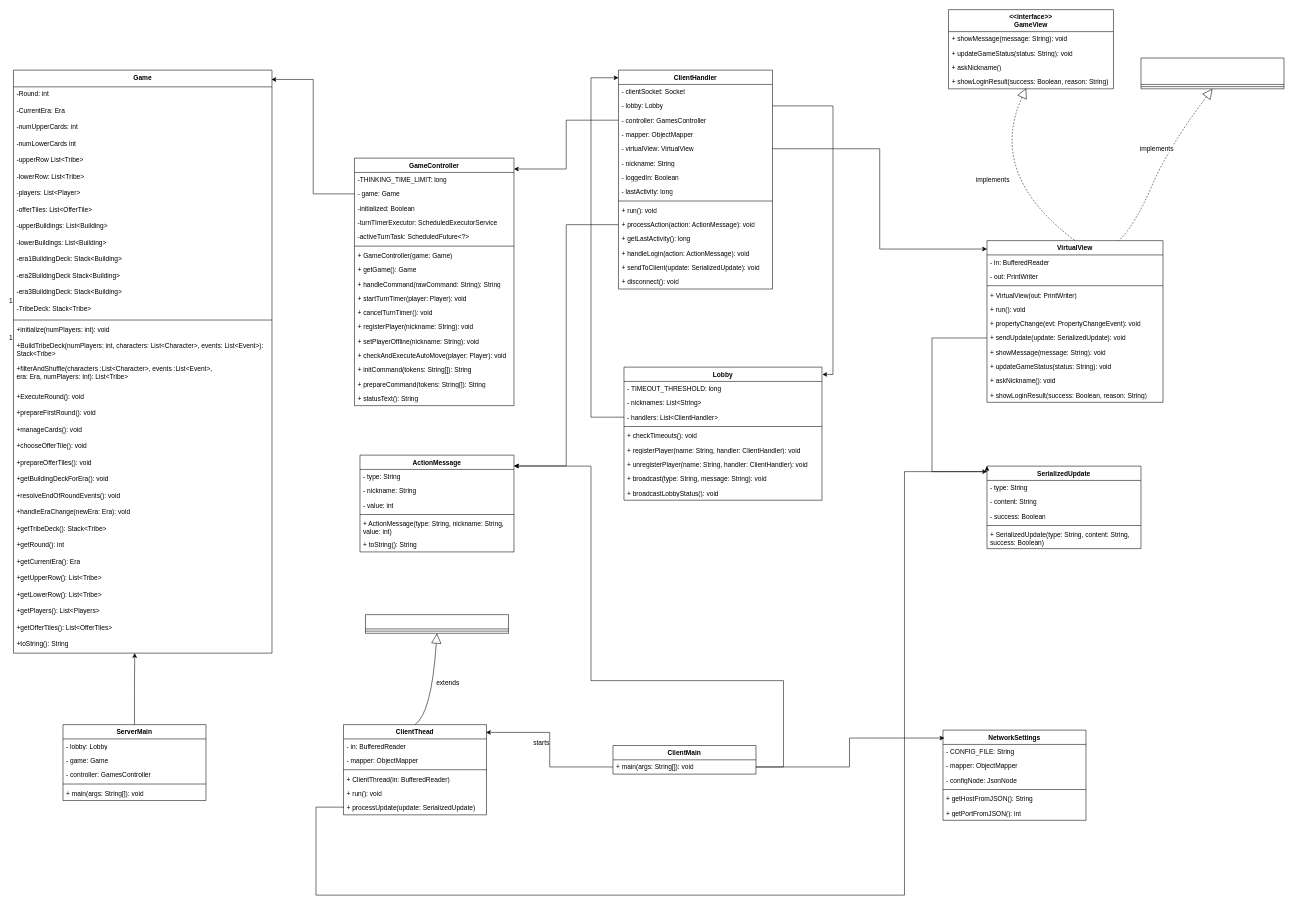
Image size: 1294x909. Some labels were removed from this diagram. The shapes that lost their labels are listed below. From the top down, each one's centre as x and y in pixels, then its label:
[1212,73]: <<Interface>> PropertyChangeListener
[436,623]: Thread
